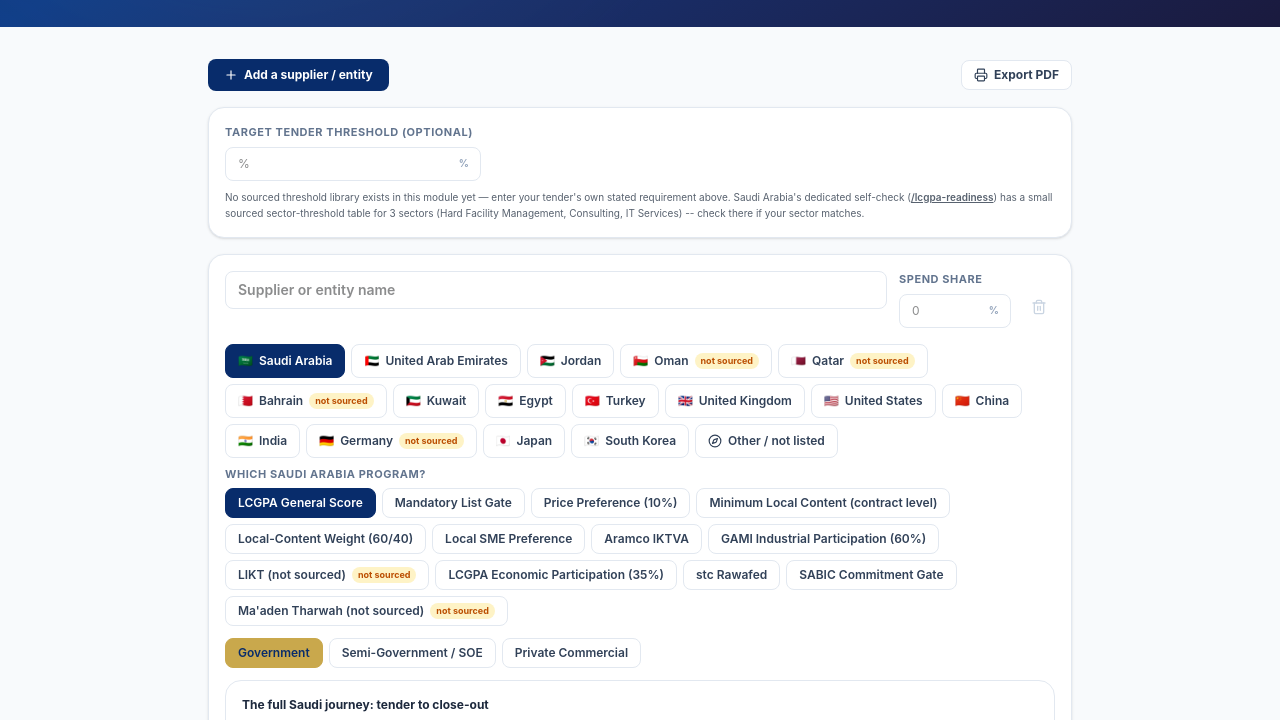
Test: LocalContentICVCheck -- QA / Tenders Law ICV Consideration real click-through › selecting Qatar then the Tenders Law ICV program reveals the real 2-field form and a genuinely computed ratio
The width and height of the screenshot is (1280, 720).
(page scrolled)
Click the button "🇶🇦 Qatar not sourced" at (853, 360), box [778,344,928,378]
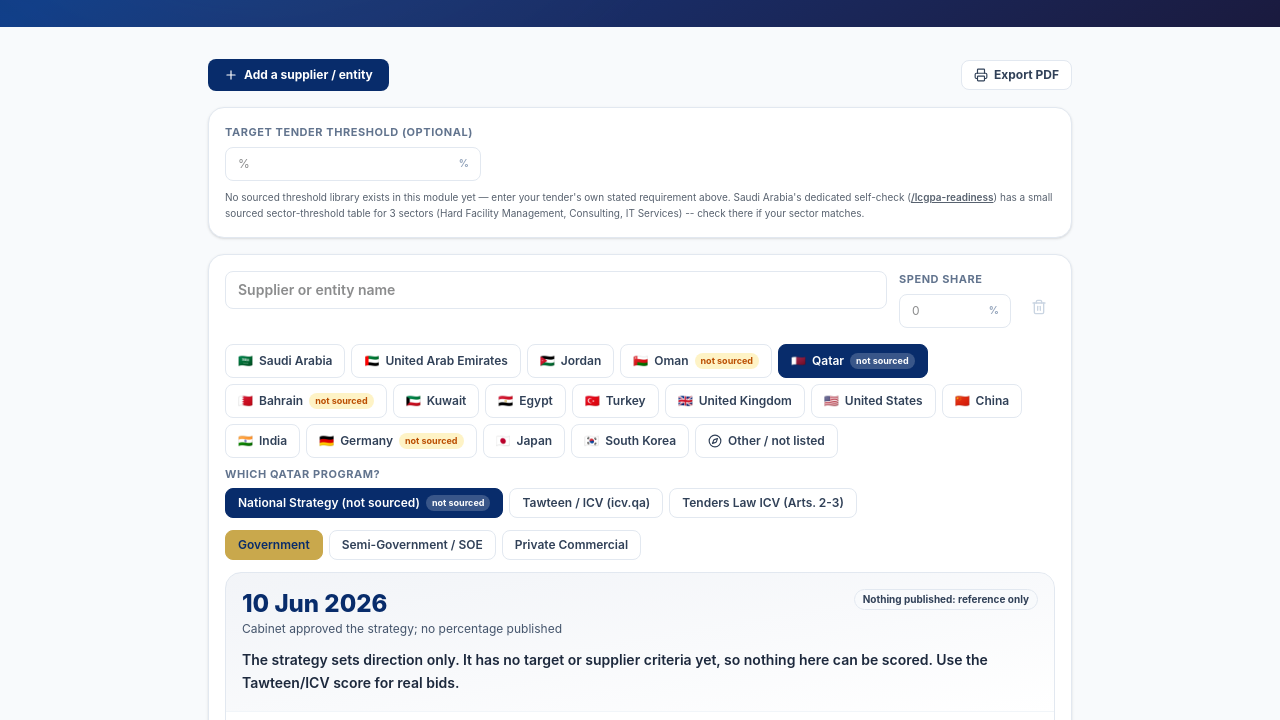
Click the button "Tenders Law ICV (Arts. 2-3)" at (763, 503), box [669,488,857,518]
(page scrolled)
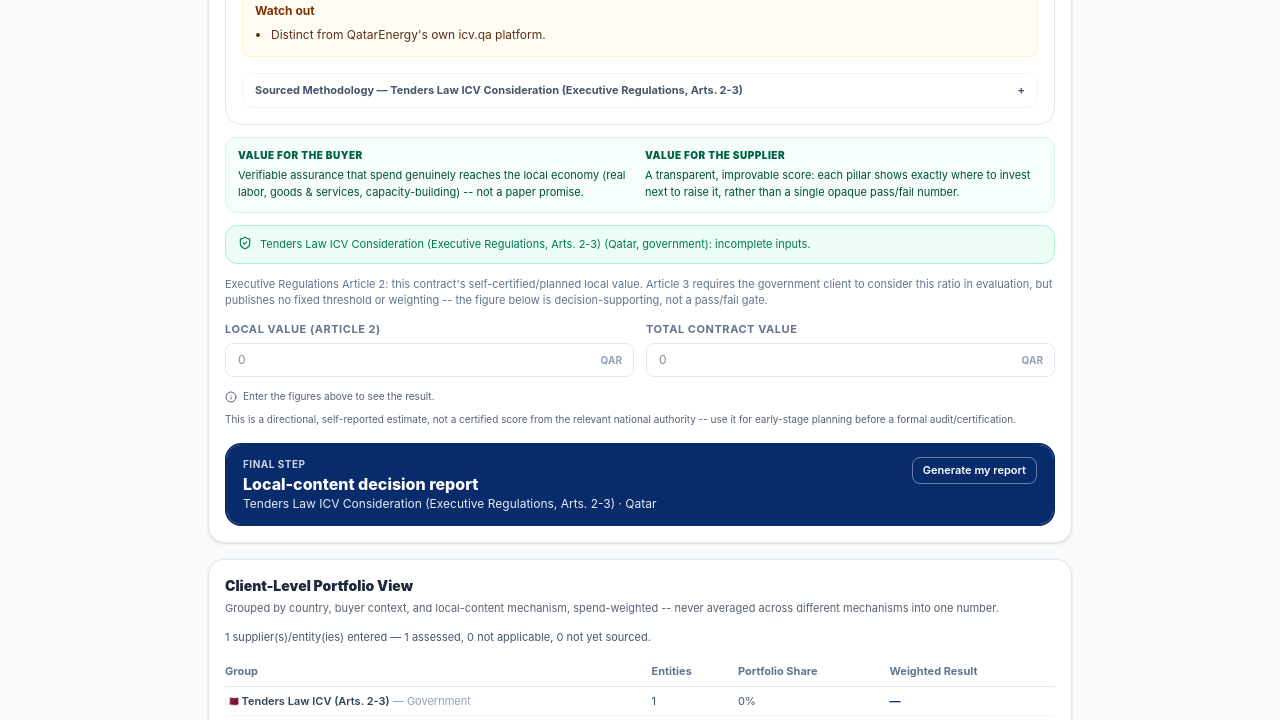
Type "3500000" into the number field with placeholder "0" below "Local Value (Article 2)" at (430, 360), box [225,343,634,377]
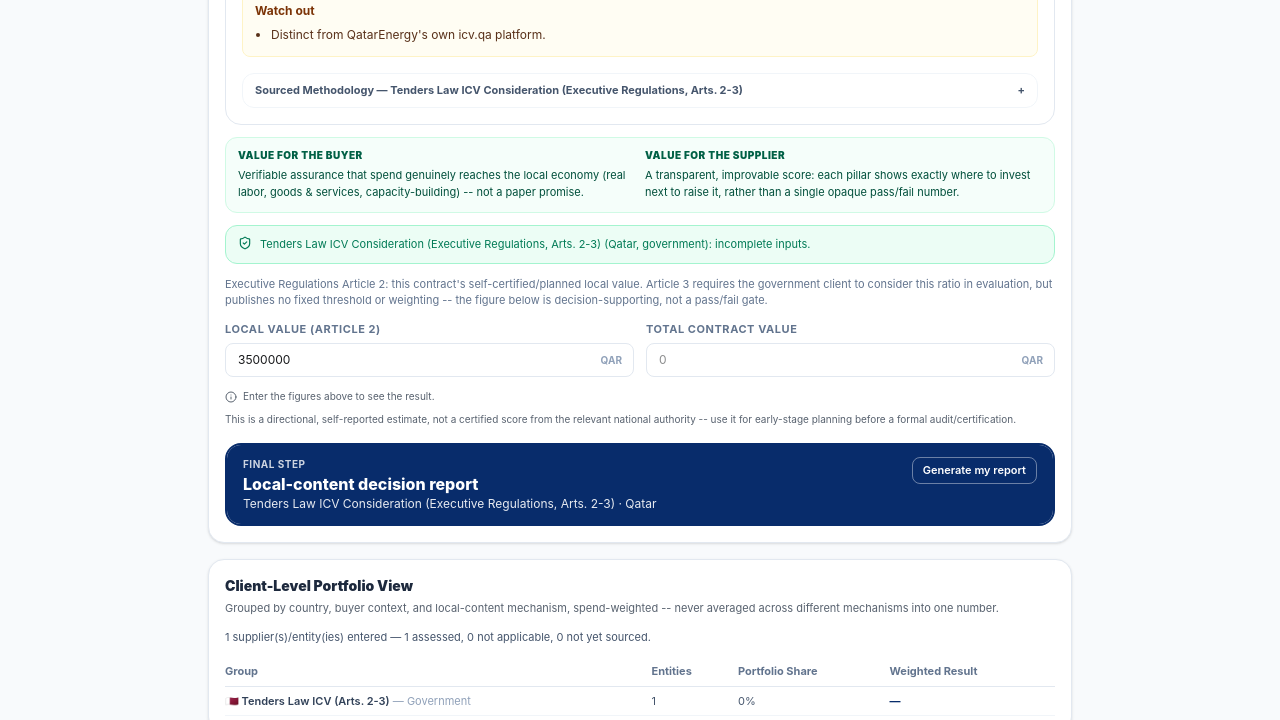
Type "10000000" into the number field with placeholder "0" at (850, 360), box [646,343,1055,377]
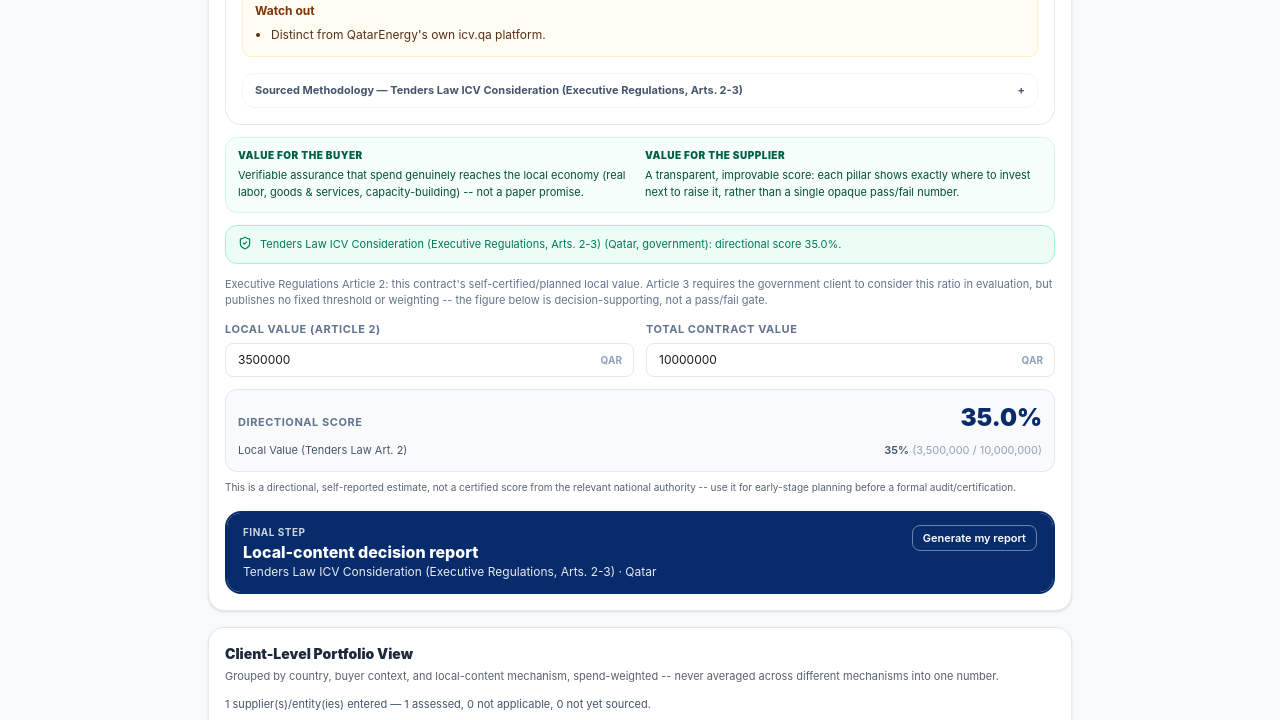
Result: the text "35.0%" is shown at [961,402,1042,434]
